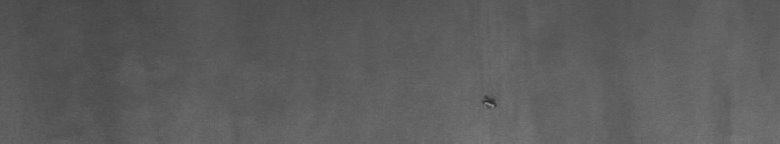fi: (482, 89, 497, 112)
